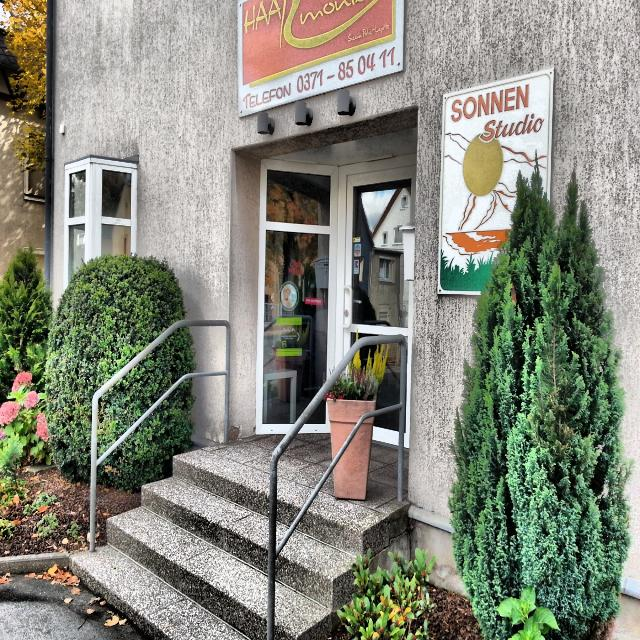escada: (70, 443, 408, 640)
